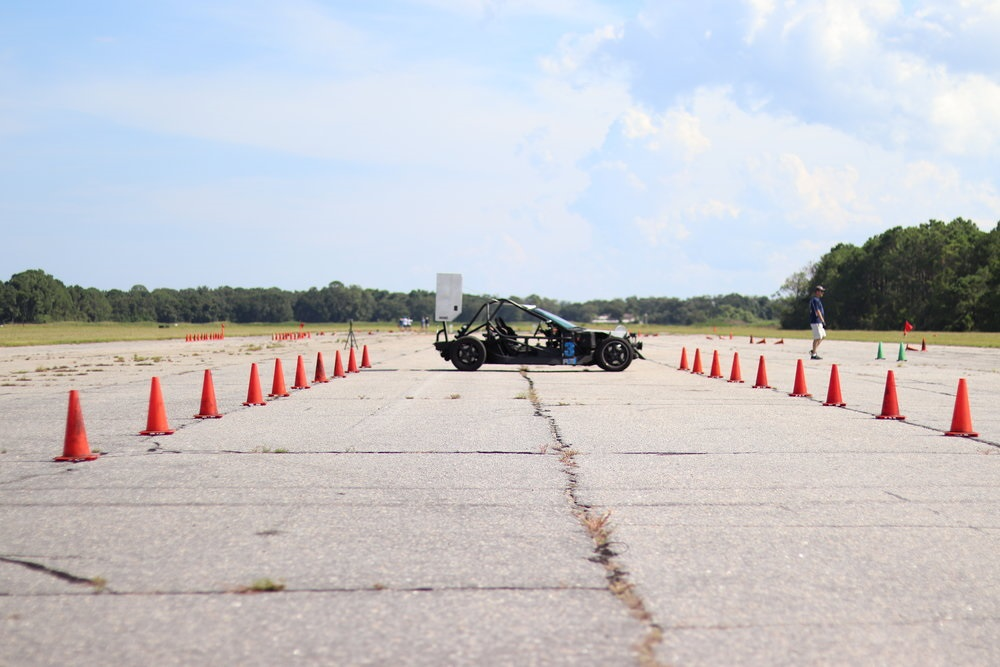cone: (52, 388, 100, 462), (137, 377, 177, 438), (946, 376, 978, 441), (196, 369, 224, 424), (875, 371, 905, 416), (820, 365, 849, 407), (288, 354, 315, 395), (786, 356, 809, 399), (267, 358, 294, 394), (242, 363, 263, 406), (308, 350, 331, 385), (751, 352, 774, 387), (353, 346, 379, 370), (726, 352, 745, 382), (325, 350, 347, 375), (708, 350, 724, 377), (676, 348, 695, 369), (344, 348, 361, 369), (919, 335, 932, 356), (893, 343, 908, 361), (692, 349, 705, 369), (874, 340, 885, 362), (902, 339, 920, 352), (745, 333, 755, 345), (756, 337, 769, 345), (773, 336, 784, 344)
